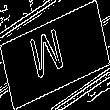M_S: (35, 24, 75, 86)
